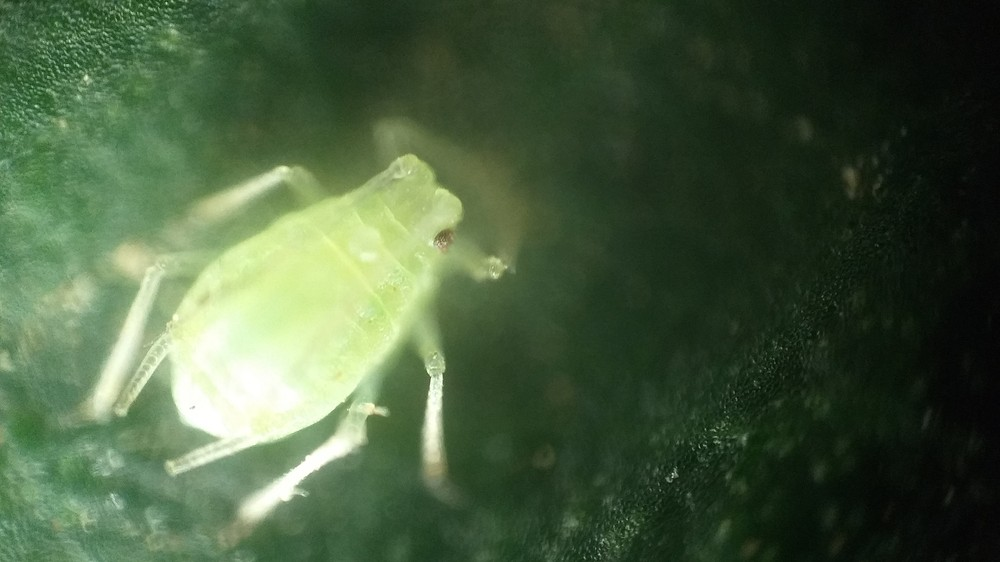Pulgon: (63, 110, 566, 542)
